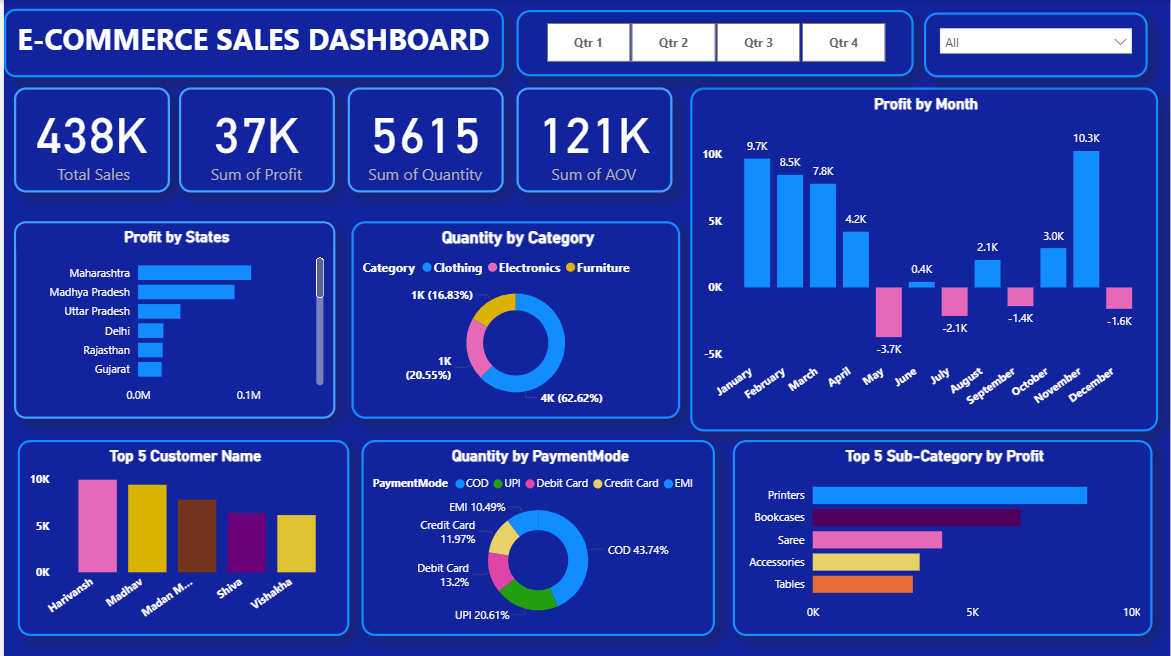

This screenshot's page, from the dashboard's own definition file:
{"tool":"powerbi","page":{"name":"Page 1","canvas":[1280,720],"ordinal":0},"visuals":[{"type":"textbox","box":[0,9.6,548.9,75.5],"z":0},{"type":"card","fields":{"Values":["Details.Total Sales"]},"box":[11,96.1,171.5,115.3],"z":1000},{"type":"barChart","title":"Profit by States","fields":{"Y":["Details.Total Sales"],"Category":["Orders.State"]},"box":[11,242.9,352.7,216.8],"z":2000},{"type":"donutChart","title":"Quantity by Category","fields":{"Category":["Details.Category"],"Y":["Details.Quantity"]},"box":[381.5,242.9,360.9,216.8],"z":3000},{"type":"columnChart","title":"Profit by Month","fields":{"Category":["Orders.Order Date.Variation.Date Hierarchy.Month"],"Y":["Details.Profit"]},"box":[753.3,96.1,513.2,377.4],"z":4000},{"type":"columnChart","title":"Top 5 Customer Name","fields":{"Category":["Orders.CustomerName"],"Y":["Details.Total Sales"]},"box":[15.1,483,363.6,215.4],"z":5000},{"type":"donutChart","title":" Quantity by PaymentMode","fields":{"Category":["Details.PaymentMode"],"Y":["Details.Quantity"]},"box":[392.5,483,388.3,215.4],"z":6000},{"type":"barChart","title":"Top 5  Sub-Category by Profit","fields":{"Category":["Details.Sub-Category"],"Y":["Details.Profit"]},"box":[800,483,461.1,215.4],"z":7000},{"type":"slicer","fields":{"Values":["Orders.Order Date.Variation.Date Hierarchy.Quarter"]},"box":[562.6,11,436.4,72.7],"z":8000},{"type":"slicer","fields":{"Values":["Orders.State"]},"box":[1010,13.7,245.6,71.4],"z":9000},{"type":"card","fields":{"Values":["Details.Profit"]},"box":[192.1,96.1,171.5,115.3],"z":10000},{"type":"card","fields":{"Values":["Details.Quantity"]},"box":[377.4,96.1,171.5,115.3],"z":11000},{"type":"card","fields":{"Values":["Details.AOV"]},"box":[562.6,96.1,171.5,115.3],"z":12000}]}

Visuals, with their boxes in screenshot pixels (x1, y1, x2, y2), scaled from the page's 1280x720 canvas onto the 1171x656 screenshot:
textbox: pyautogui.locateOnScreen(0, 9, 502, 78)
card - Details.Total Sales: pyautogui.locateOnScreen(10, 88, 167, 193)
"Profit by States" barChart: pyautogui.locateOnScreen(10, 221, 333, 419)
"Quantity by Category" donutChart: pyautogui.locateOnScreen(349, 221, 679, 419)
"Profit by Month" columnChart: pyautogui.locateOnScreen(689, 88, 1159, 431)
"Top 5 Customer Name" columnChart: pyautogui.locateOnScreen(14, 440, 346, 636)
" Quantity by PaymentMode" donutChart: pyautogui.locateOnScreen(359, 440, 714, 636)
"Top 5  Sub-Category by Profit" barChart: pyautogui.locateOnScreen(732, 440, 1154, 636)
slicer - Orders.Order Date.Variation.Date Hierarchy.Quarter: pyautogui.locateOnScreen(515, 10, 914, 76)
slicer - Orders.State: pyautogui.locateOnScreen(924, 12, 1149, 78)
card - Details.Profit: pyautogui.locateOnScreen(176, 88, 333, 193)
card - Details.Quantity: pyautogui.locateOnScreen(345, 88, 502, 193)
card - Details.AOV: pyautogui.locateOnScreen(515, 88, 672, 193)
